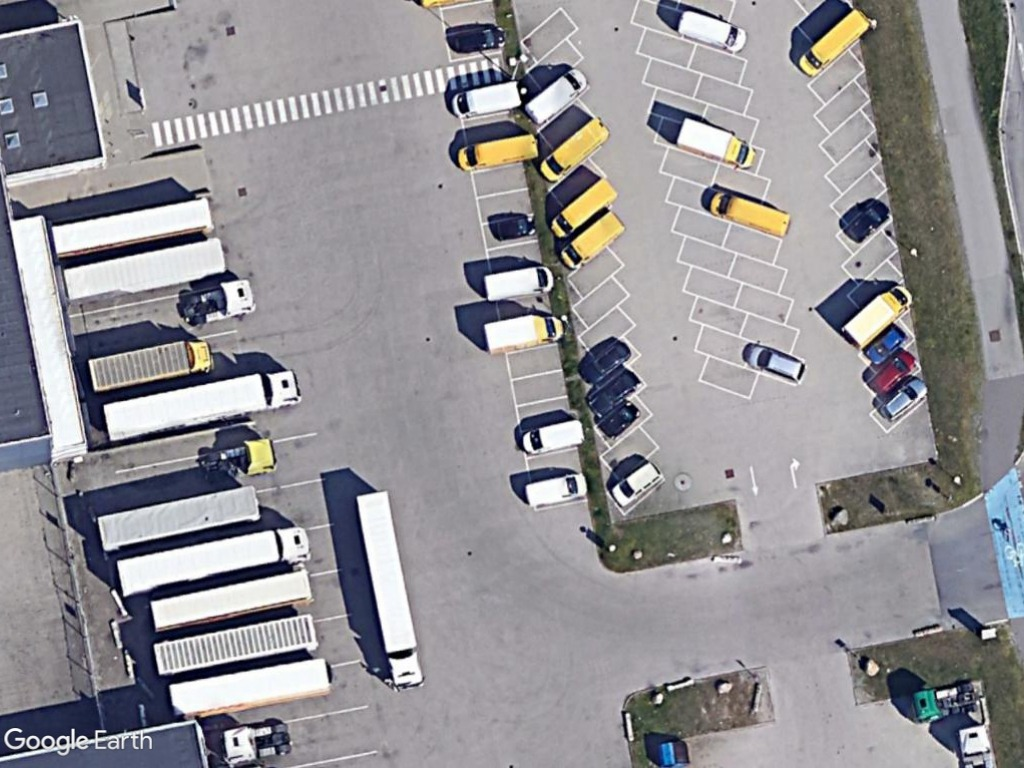car: (745, 343, 809, 385), (607, 459, 664, 506), (879, 375, 931, 424), (842, 196, 891, 245), (868, 344, 917, 393), (862, 322, 911, 366), (446, 23, 509, 57), (491, 212, 539, 244)
longvehicle: (107, 523, 313, 603), (353, 488, 427, 694)
truck: (95, 367, 304, 445), (82, 335, 219, 396), (838, 280, 915, 351)
van: (791, 8, 874, 79), (535, 115, 614, 187), (549, 171, 622, 243), (704, 187, 796, 242), (675, 114, 760, 173), (555, 207, 628, 272), (477, 310, 568, 357), (674, 7, 751, 58), (453, 130, 540, 175), (523, 65, 589, 124), (448, 77, 527, 121), (518, 413, 588, 460), (478, 261, 558, 302), (523, 467, 590, 508)
